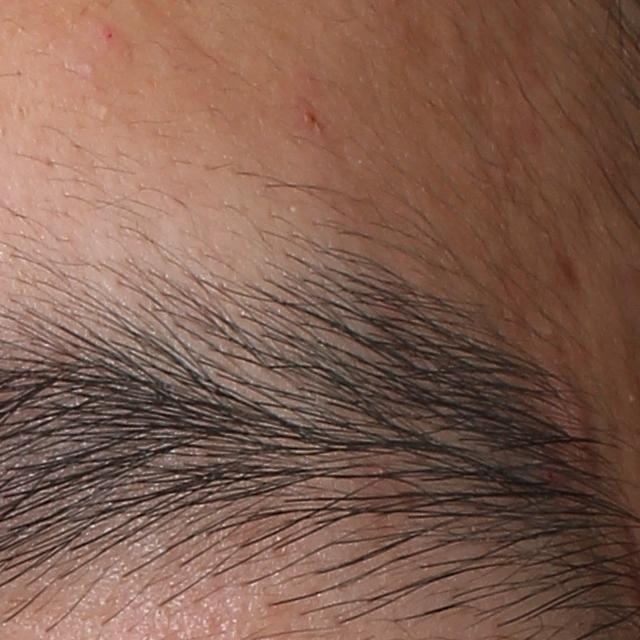atrophic_scar: (553, 249, 585, 284)
